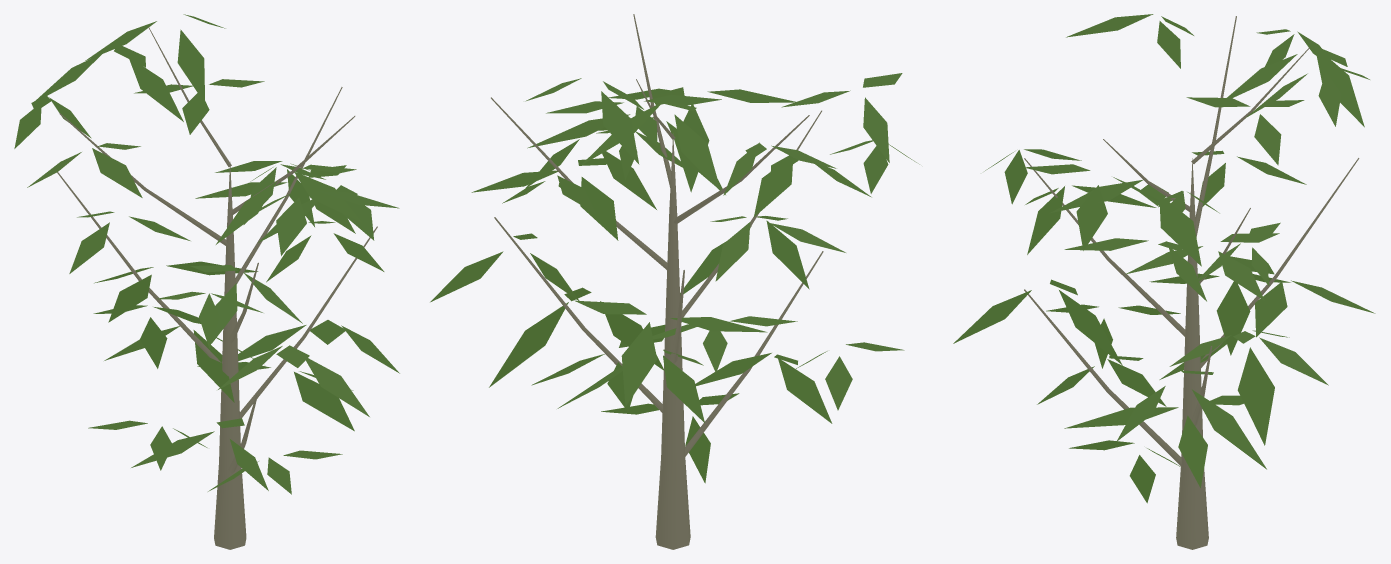
File: Blender_BayLaurel_2_Far.glb
3 renders of one model, left to right at view 1: azimuth 30°, elevation 25°; view 2: azimuth 150°, elevation 25°; view 3: azimuth 270°, elevation 25°, orthographic. The views are drawn at different scales.
Parts seen in each view (by area): view 1: Blender_BayLaurel_2_Far; view 2: Blender_BayLaurel_2_Far; view 3: Blender_BayLaurel_2_Far.
Part boxes in pixels (box(x1,y1,x2,y2)): Blender_BayLaurel_2_Far: box(14, 14, 399, 549); Blender_BayLaurel_2_Far: box(430, 14, 919, 549); Blender_BayLaurel_2_Far: box(953, 14, 1375, 549).
Size of the model in its own units: 9.8 by 12.38 by 9.85.
